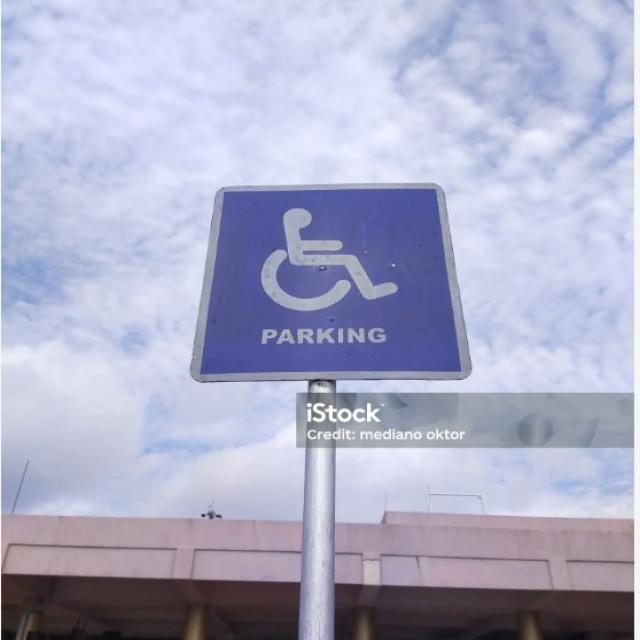symbol_of_access: (184, 178, 476, 388)
